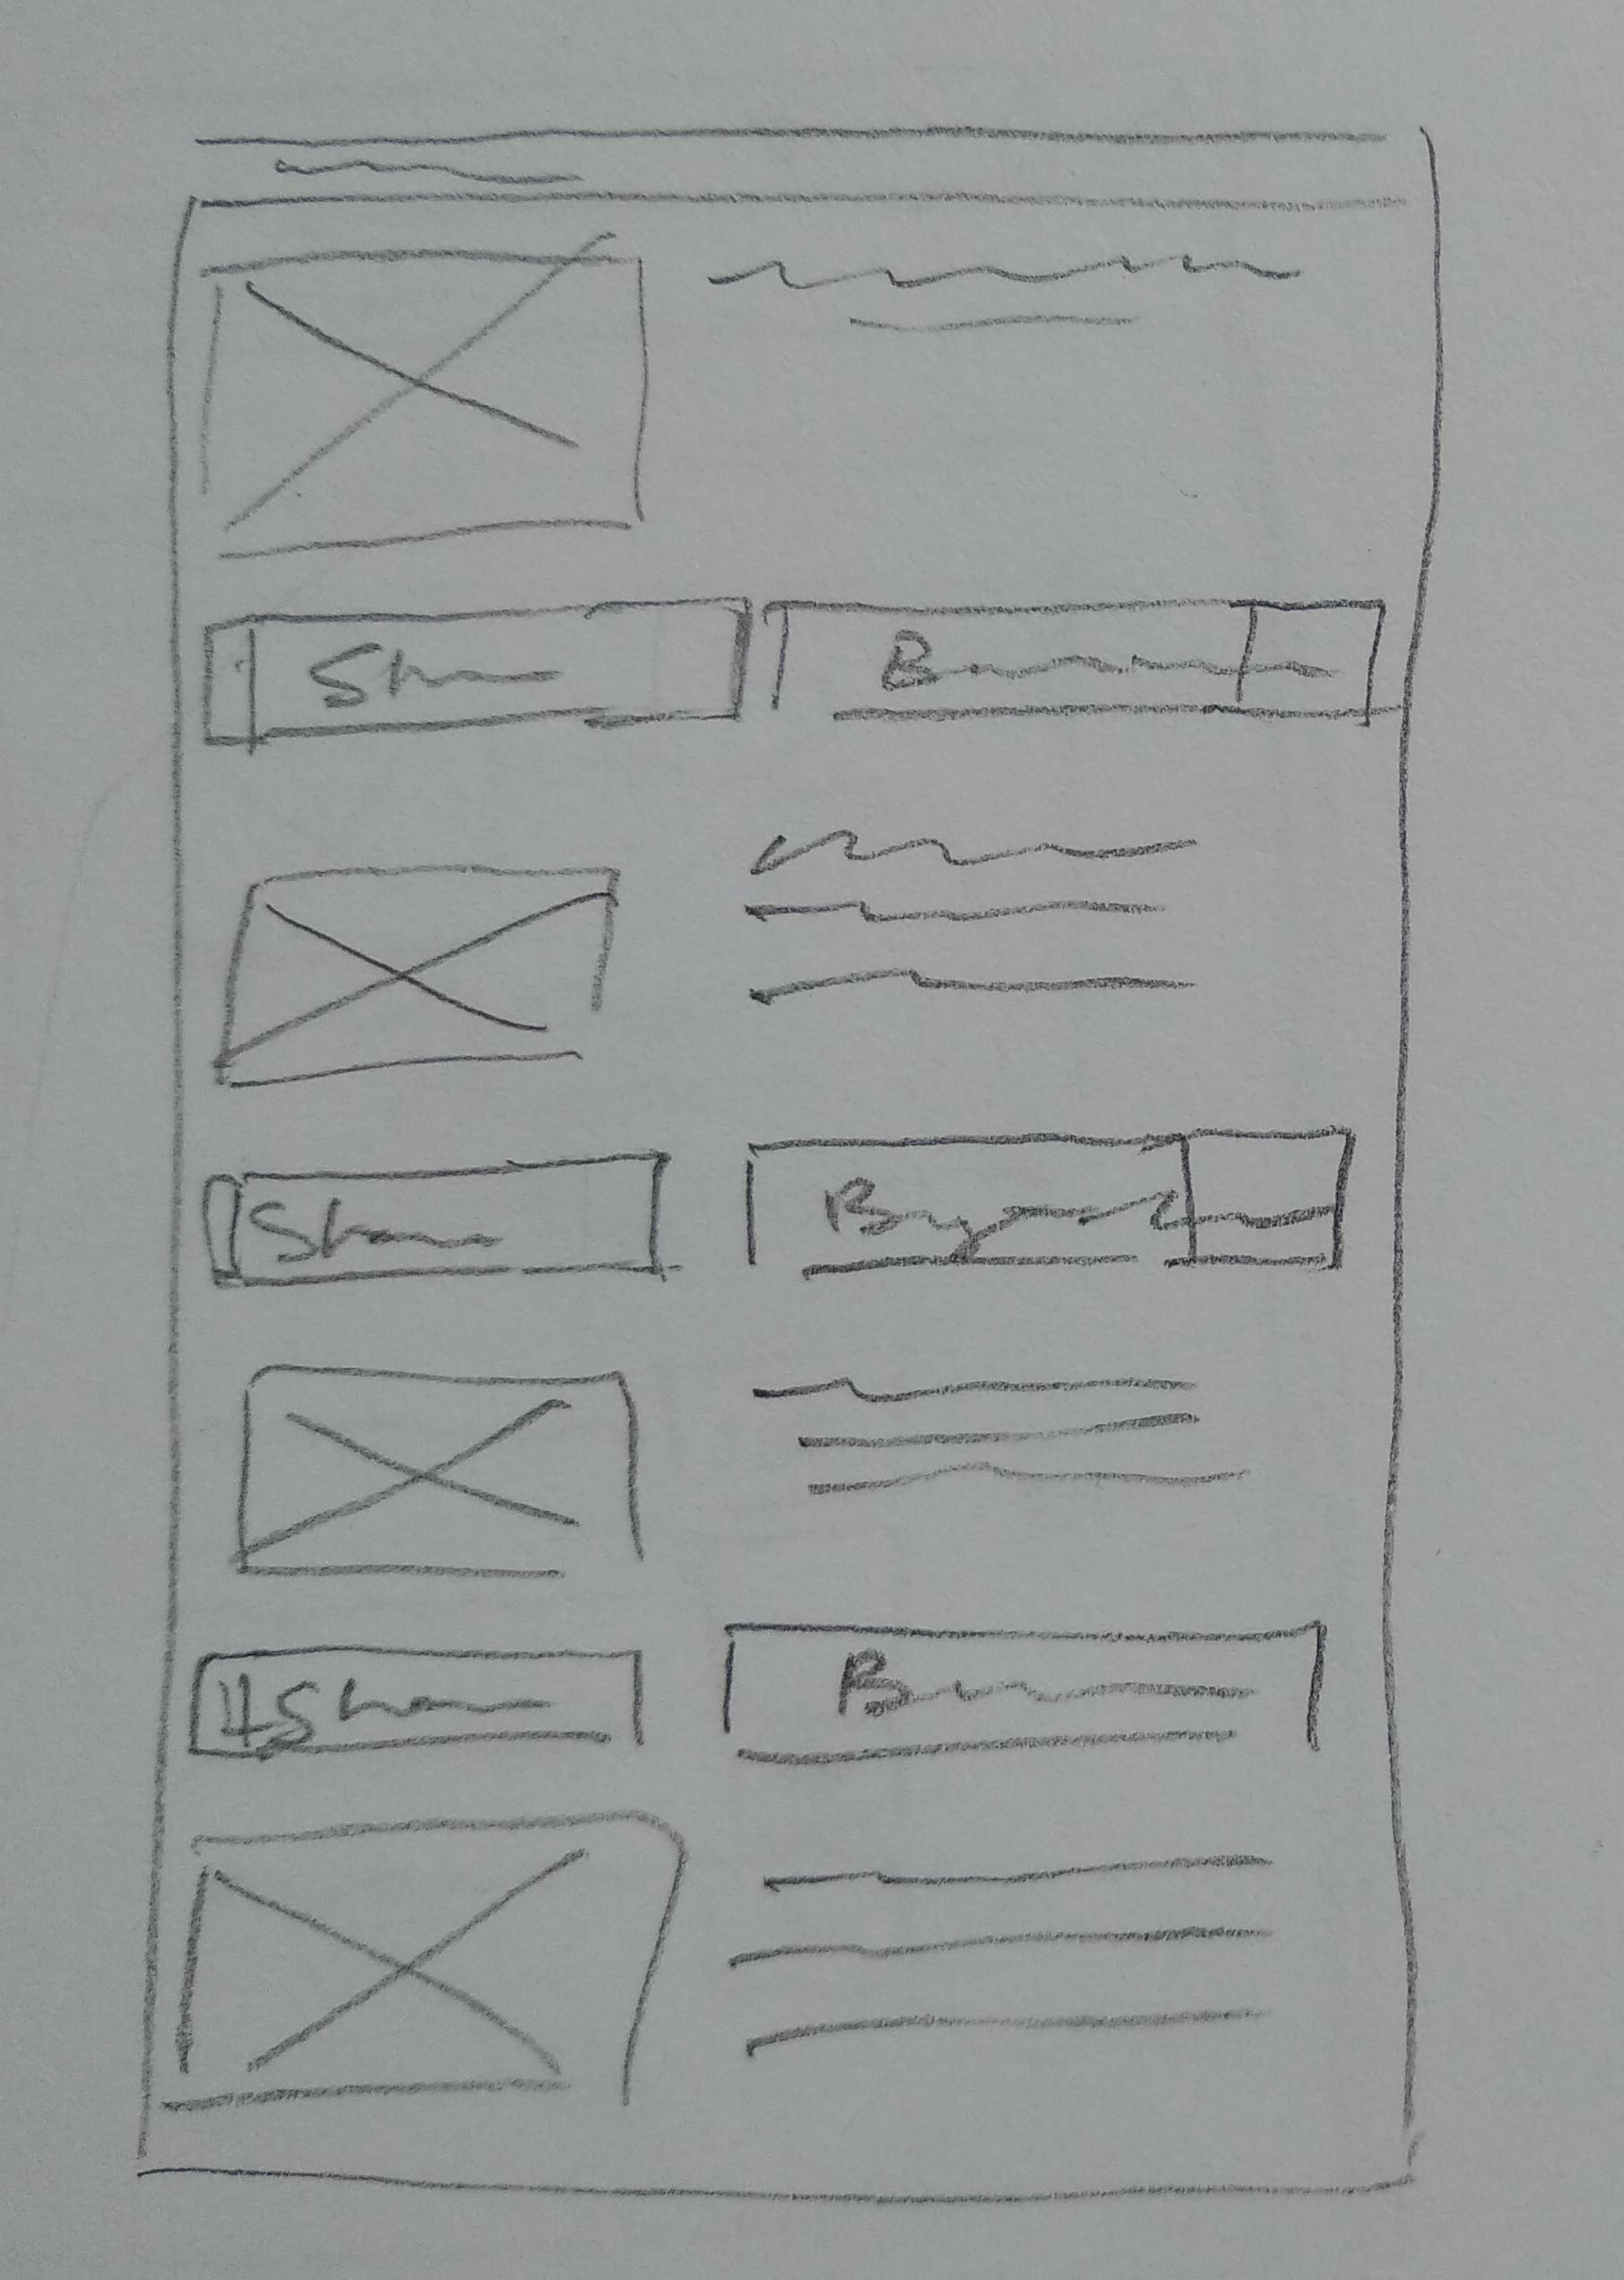Button: (743, 1129, 1353, 1278), (719, 1621, 1325, 1763), (200, 598, 750, 744), (768, 594, 1383, 719), (206, 1150, 664, 1287), (186, 1644, 647, 1761)
Image: (167, 1812, 684, 2111), (211, 248, 649, 555), (218, 867, 619, 1088), (241, 1375, 642, 1575)
Label: (726, 1849, 1274, 2057), (740, 826, 1204, 1014), (749, 1380, 1251, 1508), (707, 250, 1316, 341), (267, 146, 598, 186)
Screen: (132, 121, 1446, 2199)
